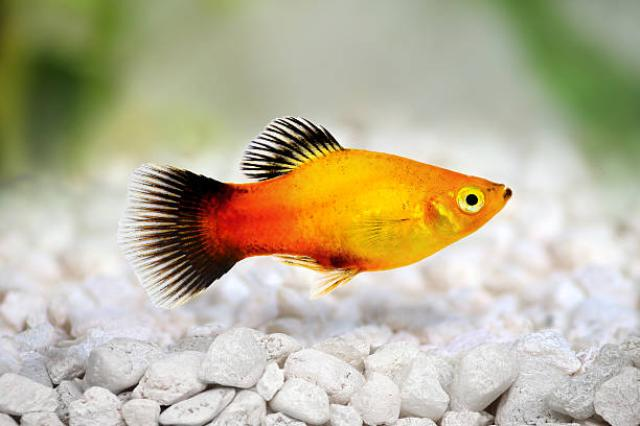Mulut: (462, 158, 534, 228)
Sirip Anal: (266, 234, 324, 278)
Sirip Dada: (343, 206, 419, 260)
Sirip Ekor: (107, 141, 245, 340)
Sirip Perut: (297, 262, 368, 304)
Sirip Punggung: (235, 105, 342, 187)
